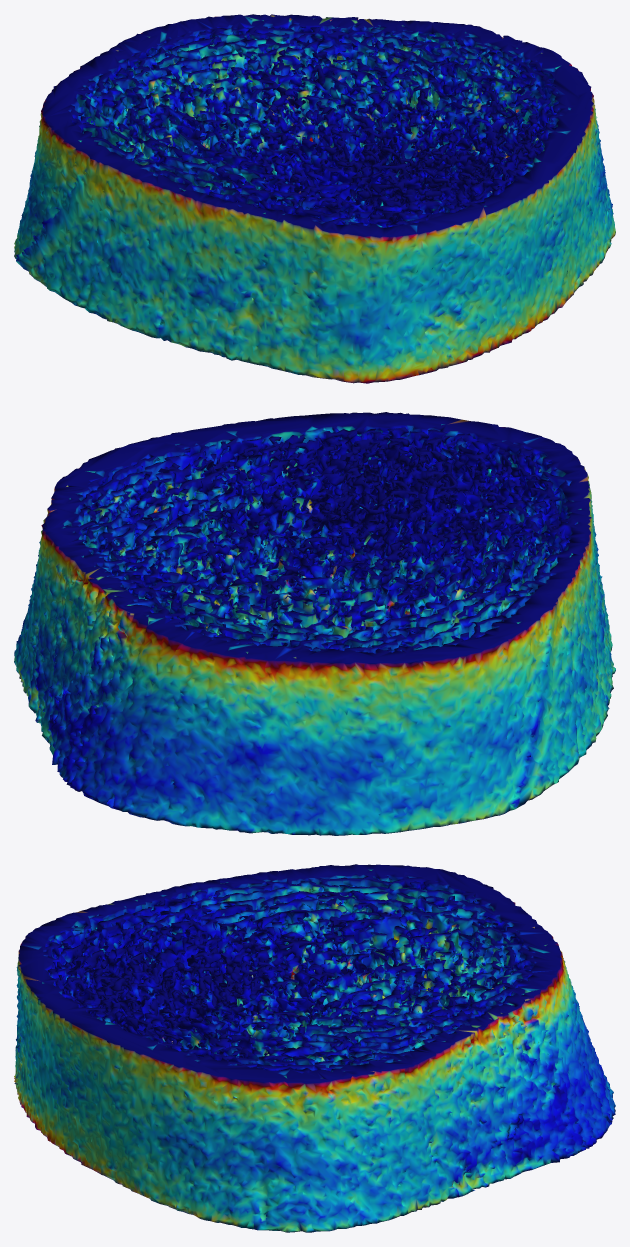
File: bone-sed.glb
The picture shows the model from 3 angles, top to bottom: view 1: azimuth 30°, elevation 25°; view 2: azimuth 150°, elevation 25°; view 3: azimuth 270°, elevation 25°; orthographic projection. The views are drawn at different scales.
Bounding box in the file's own units: 0.0346 × 0.0091 × 0.0362.
